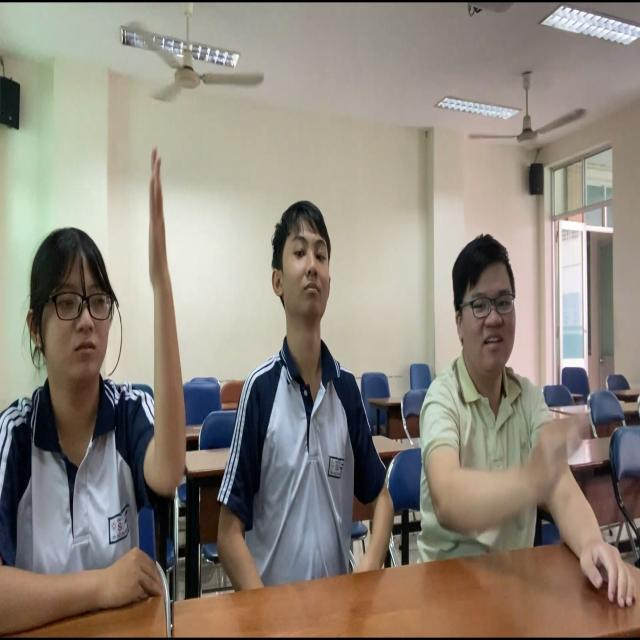raise_hand: (1, 142, 188, 629), (421, 234, 589, 576)
